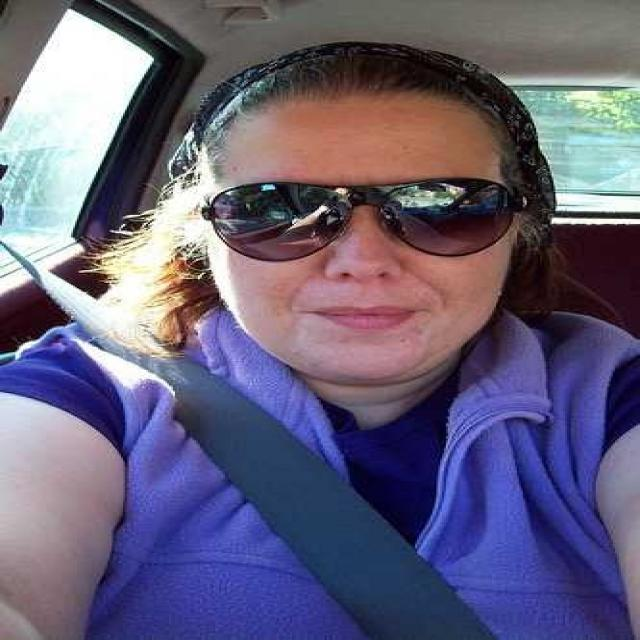seatbelt: (12, 234, 456, 589)
